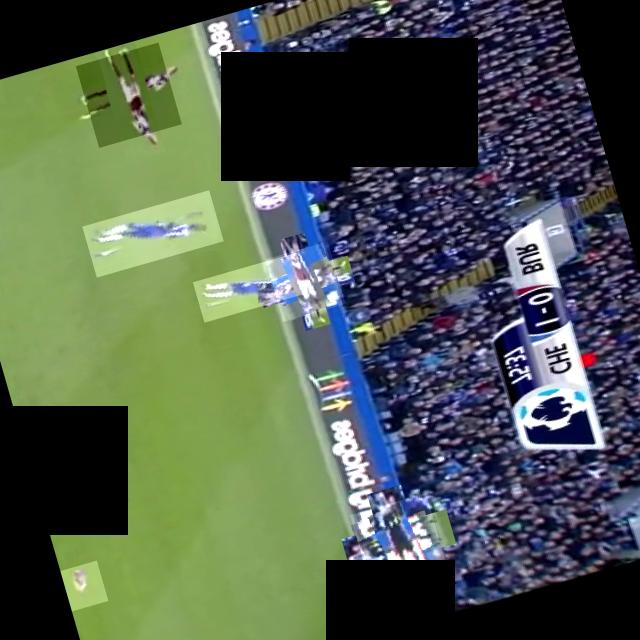referee: (349, 492, 446, 590), (59, 560, 107, 611)
soccer-player: (81, 190, 222, 277), (74, 42, 180, 148), (27, 436, 128, 524), (192, 252, 306, 322), (264, 242, 344, 322)
